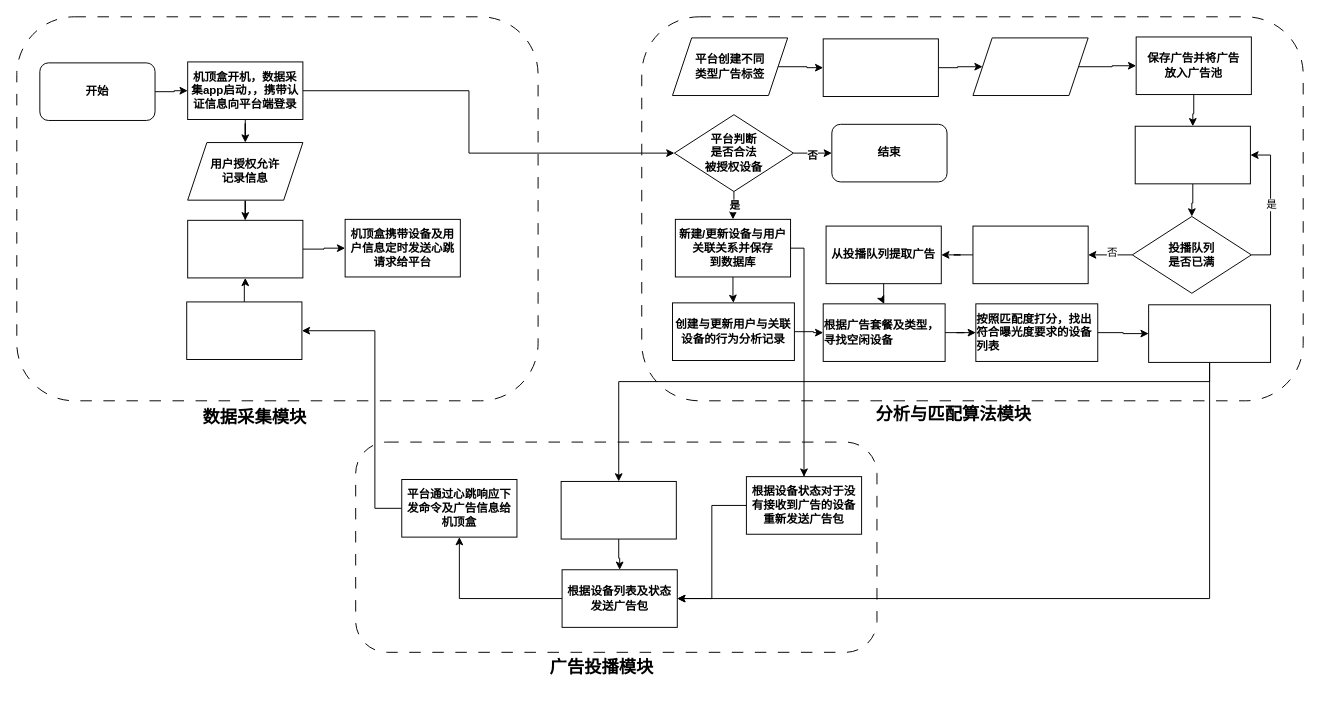
This 1320x701 diagram has some shape labels left out. The centre of each missing label's shape, as x and y in pixels:
"将广告信息放 入投播队列" belongs at [1030,254].
"广告压缩包保存到oss存储中" belongs at [618,509].
"执行平台命令与 播放广告" belongs at [244,330].
"根据套餐及广告优先级从广告池获取广告放入投播队列" belongs at [1192,154].
"生成广告压缩包及 设 备 广告关联记录" belongs at [1209,333].
"用户购买广 告投播套餐" belongs at [880,67].
"记录浏览历史、播放节目类型、播放时长等信息" belongs at [245,248].
"设计广告并 关联标签" belongs at [1030,66].
